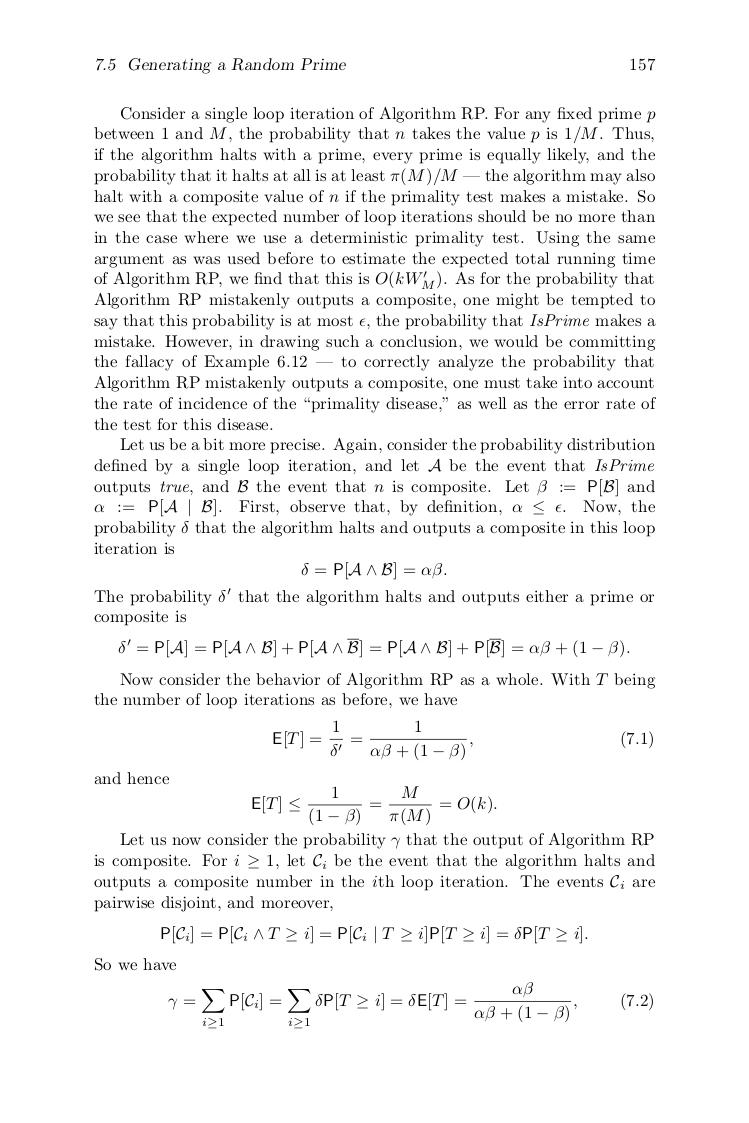formula: (168, 981, 652, 1029), (273, 719, 652, 761), (118, 637, 629, 658), (252, 786, 496, 825), (161, 925, 587, 944), (301, 561, 446, 580)
